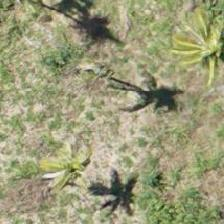coconut_tree: (57, 34, 147, 124), (31, 120, 121, 210), (169, 1, 223, 91)
